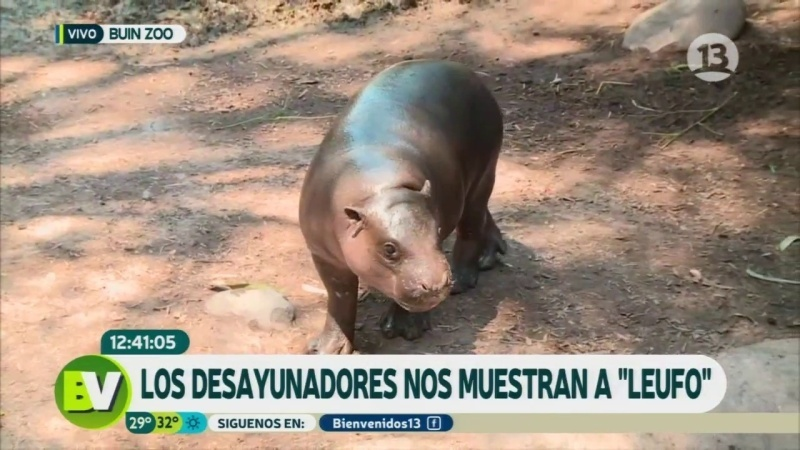hipopotamo: (286, 53, 517, 352)
